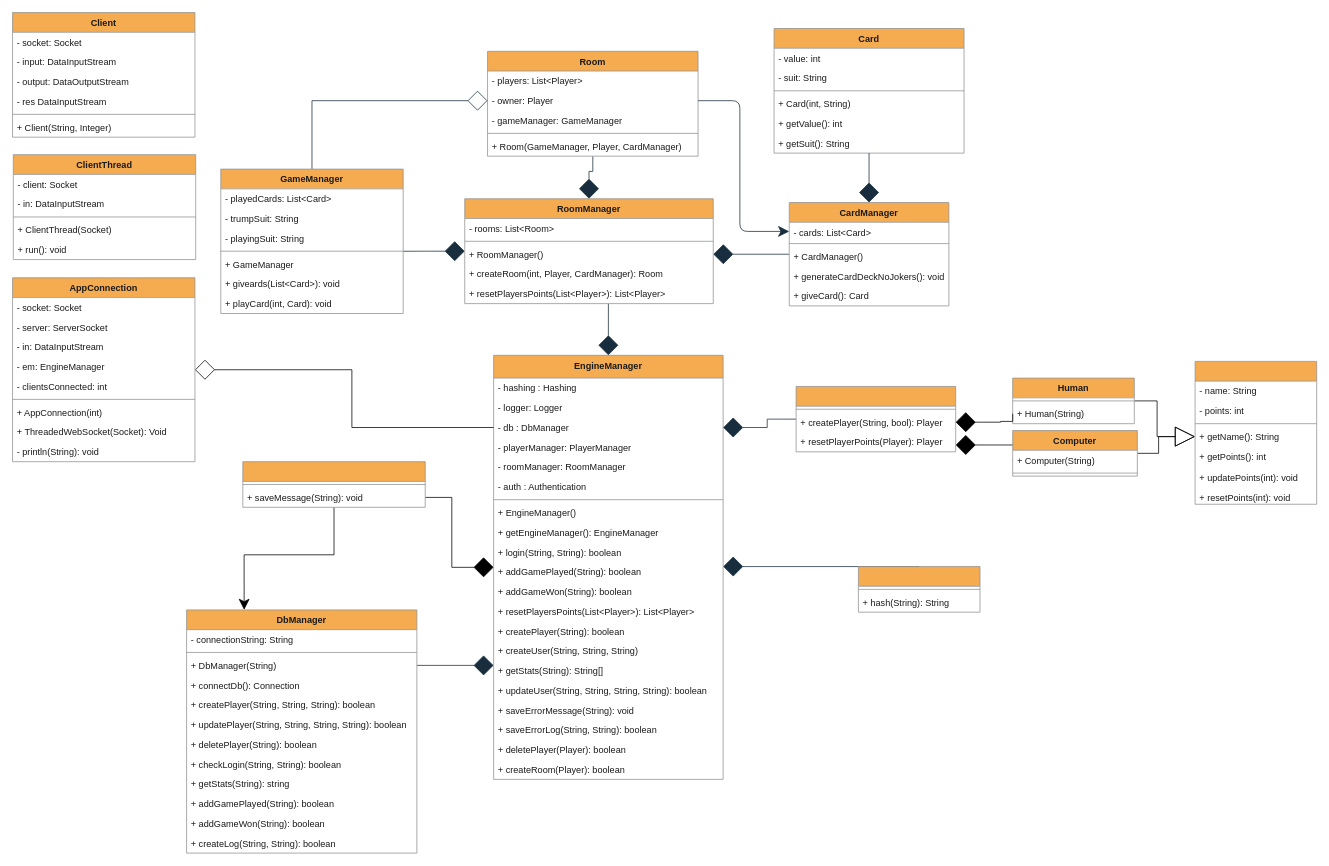
Some shapes in this 1329 by 866 pixel diagram are drawn without their labels. The box of each missing label's shape, as (x1, y1, x2, y2) in pixels:
Hashing: (858, 566, 980, 612)
Logger: (242, 461, 425, 507)
Player: (1194, 361, 1317, 504)
PlayerManager: (795, 386, 956, 452)
